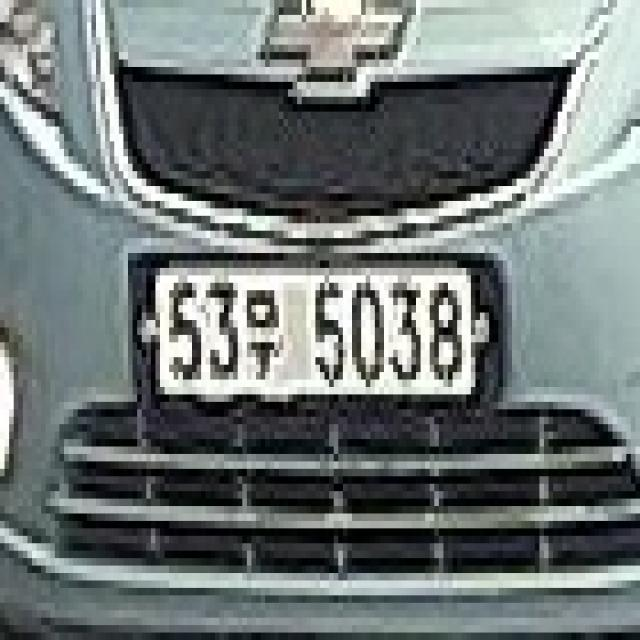0: (348, 276, 393, 394)
3: (384, 268, 425, 409), (201, 268, 247, 387)
5: (165, 268, 210, 394), (311, 260, 352, 394)
8: (430, 268, 466, 394)
license_plate: (151, 253, 480, 409)
mu: (233, 283, 284, 387)
